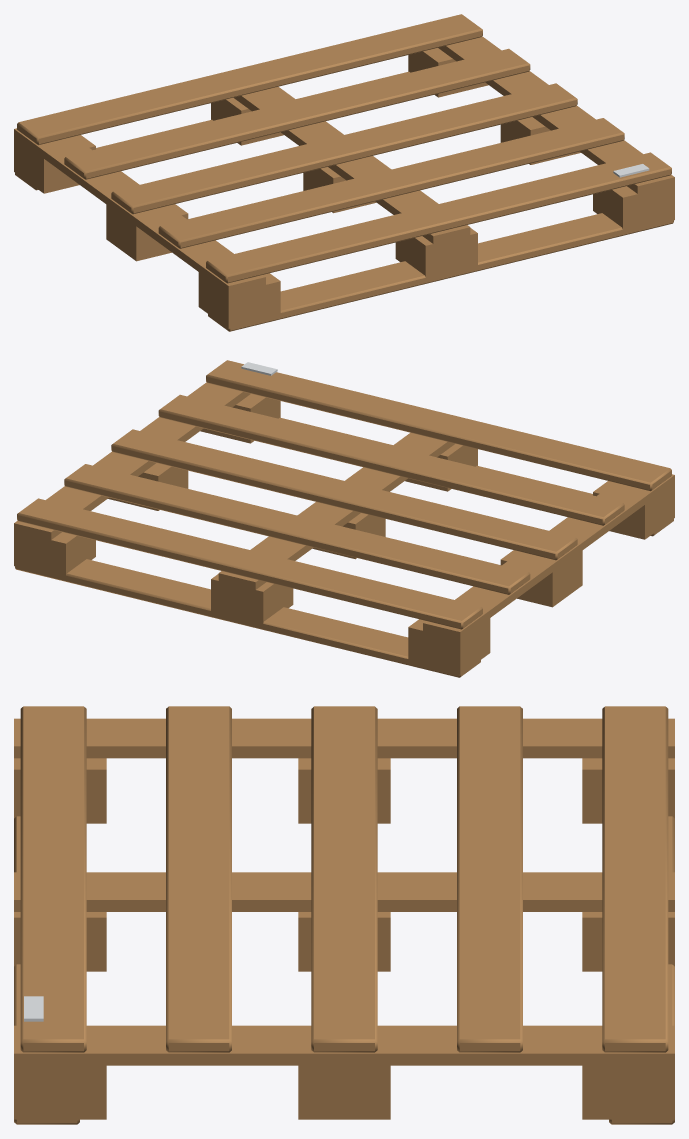
The model's file is pallet_wooden_empty.glb.
3 views of the same model, one above another, from view 1: azimuth 30°, elevation 25°; view 2: azimuth 150°, elevation 25°; view 3: azimuth 270°, elevation 25° (orthographic). The views are drawn at different scales.
Visible parts, largest first — view 1: pallet_wooden_empty; view 2: pallet_wooden_empty; view 3: pallet_wooden_empty.
Boxes of the visible parts, x1=… form: pallet_wooden_empty: x1=14, y1=14, x2=674, y2=331; pallet_wooden_empty: x1=14, y1=360, x2=674, y2=677; pallet_wooden_empty: x1=14, y1=706, x2=674, y2=1124.
Size of the model in its own units: 1.2 by 0.1505 by 1.
